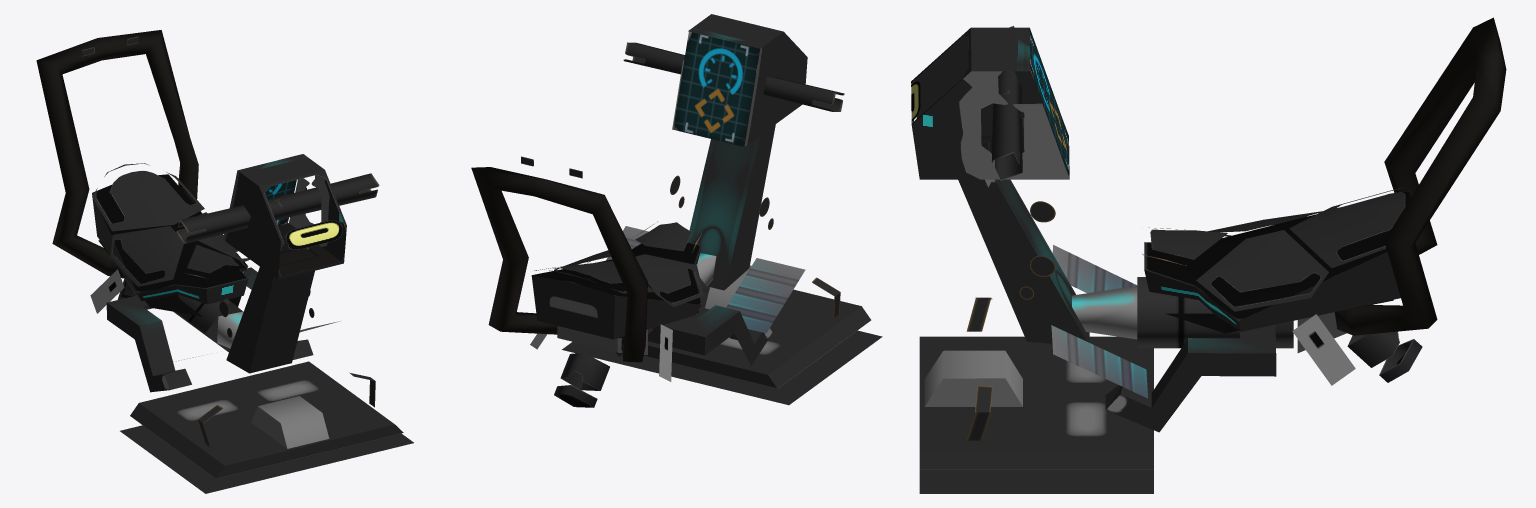
File: obj_interactive_driversaddle_04_lod1.fbx
3 renders of one model, left to right at view 1: azimuth 30°, elevation 25°; view 2: azimuth 150°, elevation 25°; view 3: azimuth 270°, elevation 25°, orthographic. The views are drawn at different scales.
Visible parts, largest first — view 1: polySurface7; view 2: polySurface7; view 3: polySurface7.
Part boxes in pixels (x1,y1,x2,y2): polySurface7: [36, 30, 413, 493]; polySurface7: [471, 14, 882, 407]; polySurface7: [911, 17, 1506, 493].
Size of the model in its own units: 3 by 3.62 by 5.17.
Materials: 1 (1 with a texture image).
